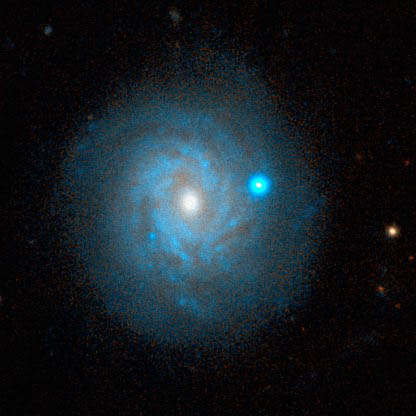NGC 3982: (62, 50, 330, 354)
